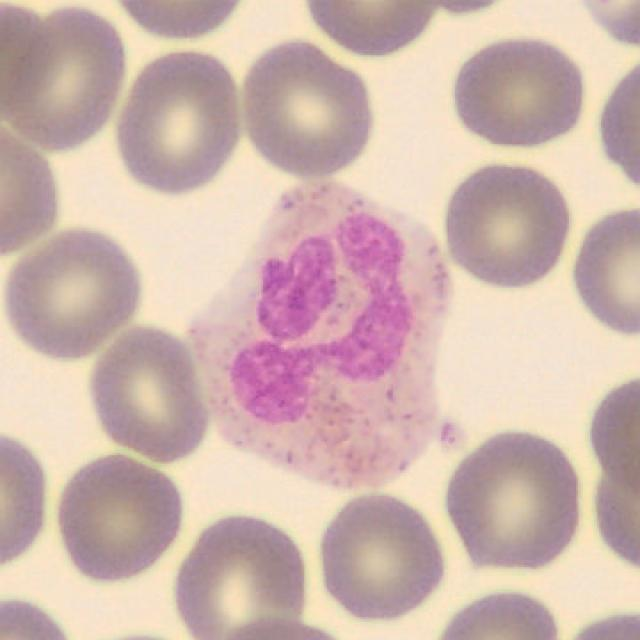Neutrofilo segmentado: (185, 181, 450, 491)
